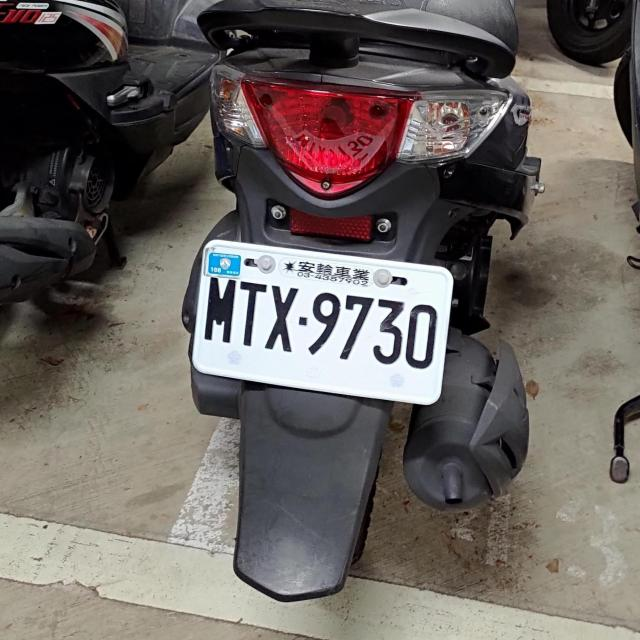W: (188, 237, 458, 405)
